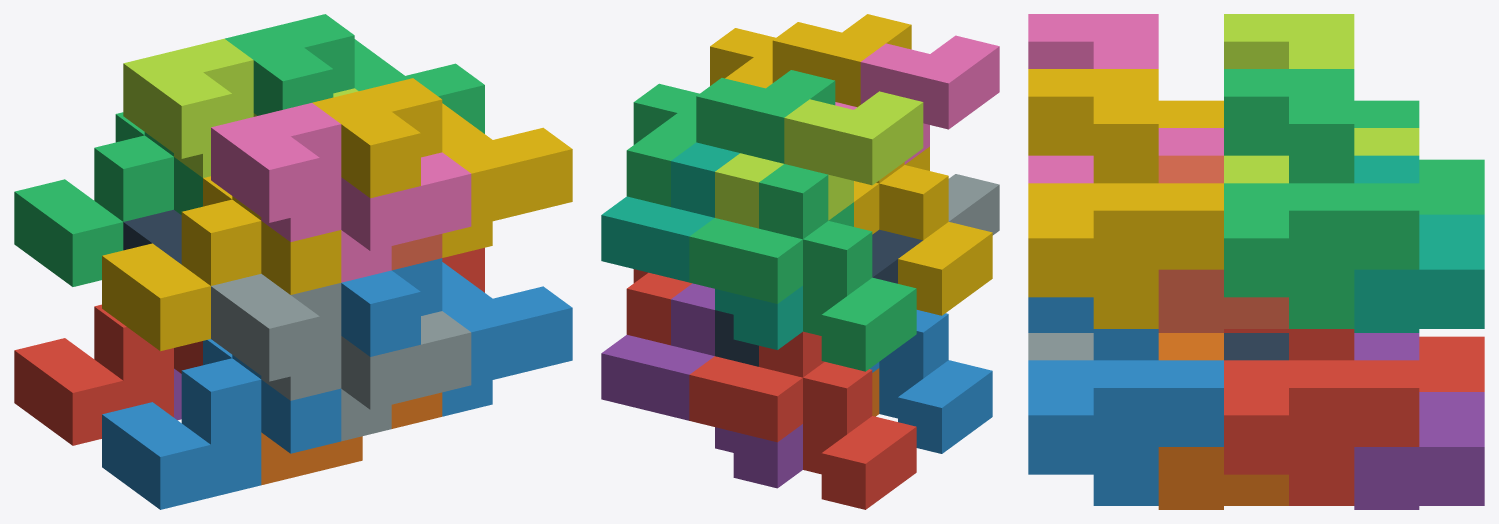
File: tiling.obj
3 renders of one model, left to right at view 1: azimuth 30°, elevation 25°; view 2: azimuth 150°, elevation 25°; view 3: azimuth 270°, elevation 25°, orthographic. The views are drawn at different scales.
Visible parts, largest first — view 1: copy_2_domain_4, copy_2_domain_2, copy_1_domain_2, copy_2_domain_8, copy_1_domain_4, copy_2_domain_6, copy_1_domain_3, copy_1_domain_1, copy_2_domain_7, copy_2_domain_3, copy_1_domain_6, copy_2_domain_1 (+2 smaller); view 2: copy_1_domain_3, copy_1_domain_1, copy_2_domain_7, copy_2_domain_3, copy_1_domain_7, copy_1_domain_5, copy_1_domain_4, copy_1_domain_2, copy_2_domain_8, copy_2_domain_4, copy_2_domain_5, copy_2_domain_1 (+1 smaller); view 3: copy_2_domain_7, copy_2_domain_8, copy_2_domain_6, copy_2_domain_5, copy_1_domain_7, copy_1_domain_5, copy_2_domain_4, copy_2_domain_3, copy_1_domain_8, copy_1_domain_6, copy_1_domain_3, copy_1_domain_1 (+3 smaller).
Boxes of the visible parts, x1,y1,x2,y2 form: copy_2_domain_4: (211, 103, 471, 282); copy_2_domain_2: (211, 273, 471, 441); copy_1_domain_2: (102, 339, 341, 509); copy_2_domain_8: (312, 78, 572, 257); copy_1_domain_4: (102, 176, 341, 351); copy_2_domain_6: (341, 258, 572, 416); copy_1_domain_3: (14, 112, 202, 286); copy_1_domain_1: (14, 304, 202, 445); copy_2_domain_7: (225, 14, 484, 133); copy_2_domain_3: (123, 38, 358, 177); copy_1_domain_6: (261, 392, 442, 485); copy_2_domain_1: (123, 209, 181, 264); copy_1_domain_3: (689, 164, 916, 371); copy_1_domain_1: (689, 331, 916, 509); copy_2_domain_7: (626, 70, 835, 206); copy_2_domain_3: (715, 91, 923, 228); copy_1_domain_7: (601, 142, 802, 349); copy_1_domain_5: (601, 283, 802, 488); copy_1_domain_4: (854, 146, 992, 315); copy_1_domain_2: (870, 310, 992, 453); copy_2_domain_8: (710, 14, 911, 107); copy_2_domain_4: (835, 35, 999, 164); copy_2_domain_5: (626, 269, 691, 345); copy_2_domain_1: (715, 229, 922, 366); copy_2_domain_7: (1224, 69, 1419, 328); copy_2_domain_8: (1028, 69, 1223, 328); copy_2_domain_6: (1028, 297, 1223, 505); copy_2_domain_5: (1224, 329, 1419, 505); copy_1_domain_7: (1354, 155, 1484, 332); copy_1_domain_5: (1354, 333, 1484, 509); copy_2_domain_4: (1028, 14, 1223, 183); copy_2_domain_3: (1224, 14, 1419, 183); copy_1_domain_8: (1158, 155, 1288, 332); copy_1_domain_6: (1158, 333, 1288, 509); copy_1_domain_3: (1354, 100, 1484, 214); copy_1_domain_1: (1419, 336, 1484, 391).
Size of the model in its own units: 7 by 7 by 7.
